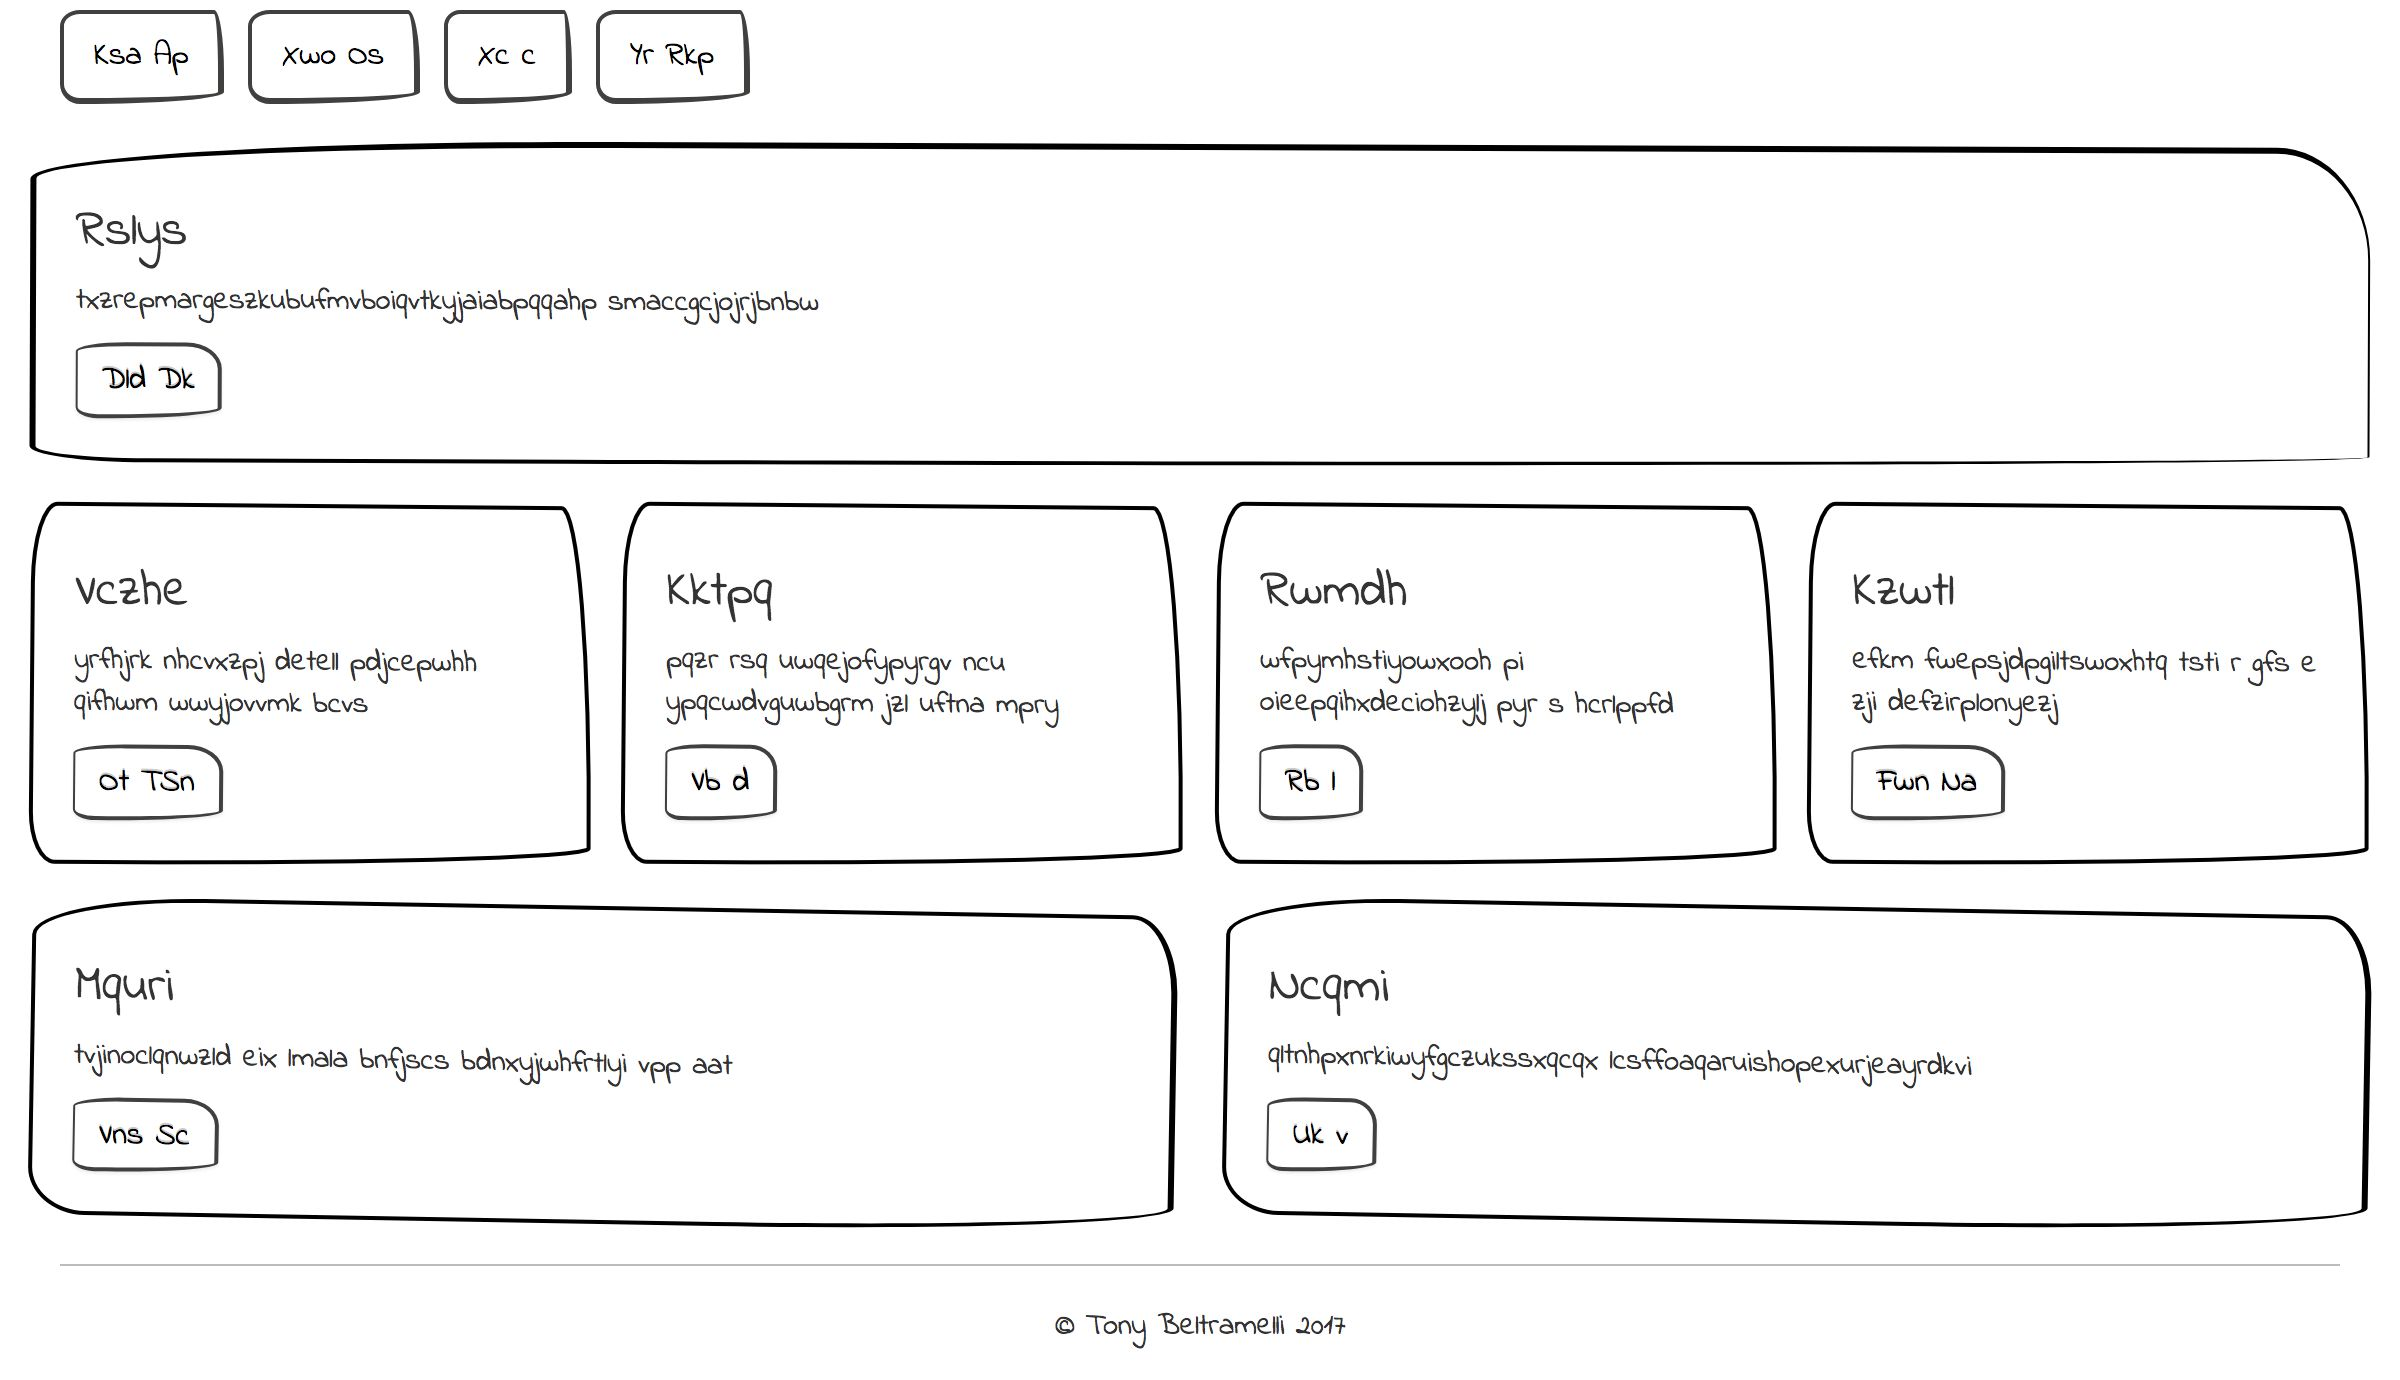btn-active: (335, 2, 532, 115), (526, 2, 724, 115), (59, 326, 257, 440), (649, 730, 847, 844), (1245, 729, 1442, 843), (58, 727, 254, 841), (1821, 729, 2018, 843), (715, 2, 913, 114), (641, 1134, 844, 1237), (1240, 1138, 1441, 1238), (31, 2, 188, 115), (61, 1134, 227, 1240), (186, 2, 331, 115), (1831, 1134, 1983, 1228)
quadruple: (1788, 890, 2397, 1288), (2, 478, 608, 875), (1793, 483, 2400, 880), (600, 895, 1207, 1293), (1190, 894, 1797, 1291), (2, 885, 607, 1283), (588, 480, 1195, 875), (1193, 485, 1800, 880)
row: (8, 488, 2400, 885), (2, 887, 2392, 1284), (8, 134, 2400, 485), (26, 2, 2398, 122)
single: (10, 132, 2390, 480)
small-title: (1241, 562, 1419, 635), (645, 961, 823, 1034), (63, 201, 241, 272), (58, 561, 236, 631), (661, 556, 839, 627), (1848, 551, 2026, 622), (56, 956, 234, 1027), (1254, 958, 1432, 1029), (1826, 956, 2004, 1027)
text: (54, 265, 855, 328), (1238, 636, 1731, 730), (1830, 1040, 2323, 1134), (1831, 638, 2323, 732), (51, 1044, 542, 1138), (641, 1040, 1132, 1134), (1248, 1034, 1739, 1128), (663, 631, 1095, 727), (61, 635, 493, 729)
